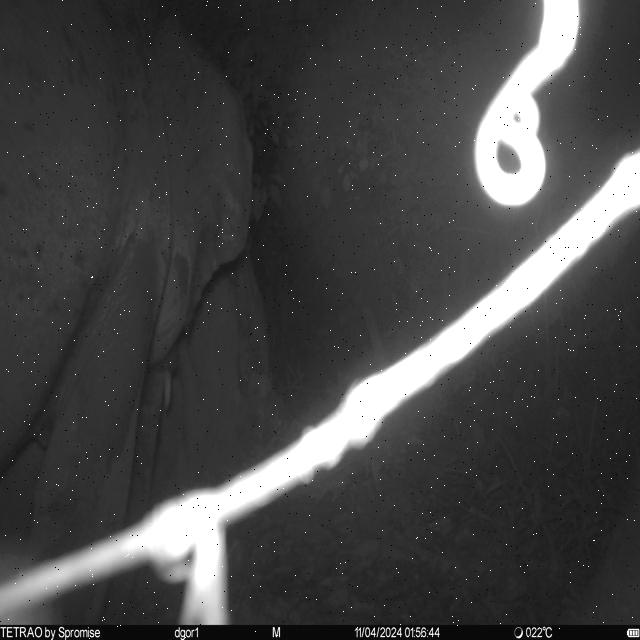ear: (146, 3, 256, 366)
elephant: (0, 1, 256, 626)
tusk: (161, 372, 176, 421)
